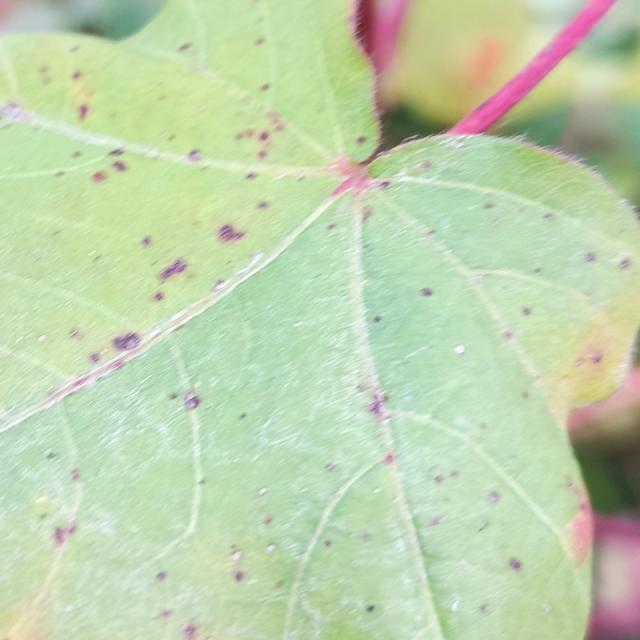Bacterial_Blight: (126, 241, 210, 308)
Cotton: (516, 0, 639, 211)
